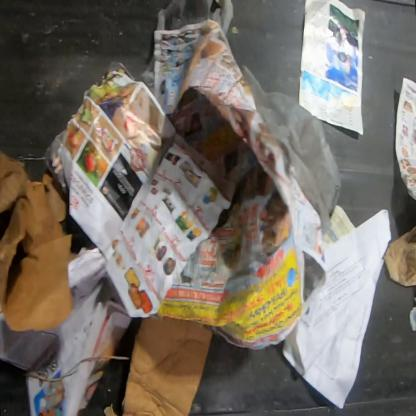cardboard: (0, 152, 78, 333), (122, 312, 214, 416)
soft_plastic: (241, 66, 341, 244), (156, 0, 235, 38)
